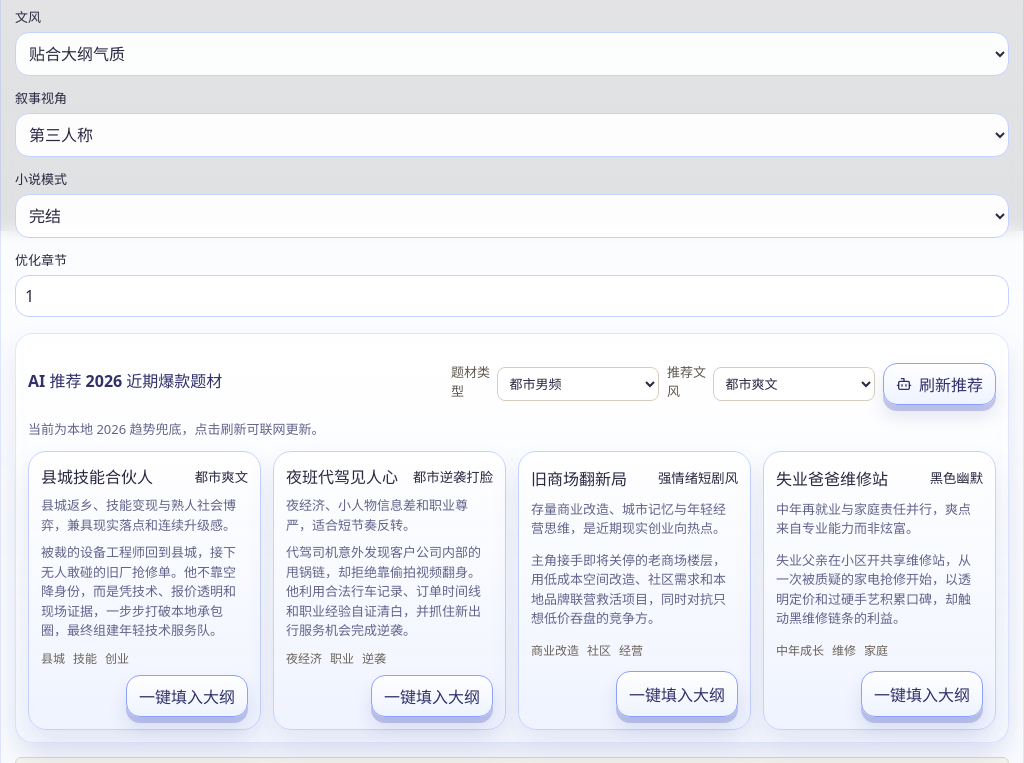
Test: Workspace progress › shows online topic recommendations after refresh succeeds
(page scrolled)
Click the button "刷新推荐" at (940, 384), box x1=883 y1=363 x2=996 y2=405
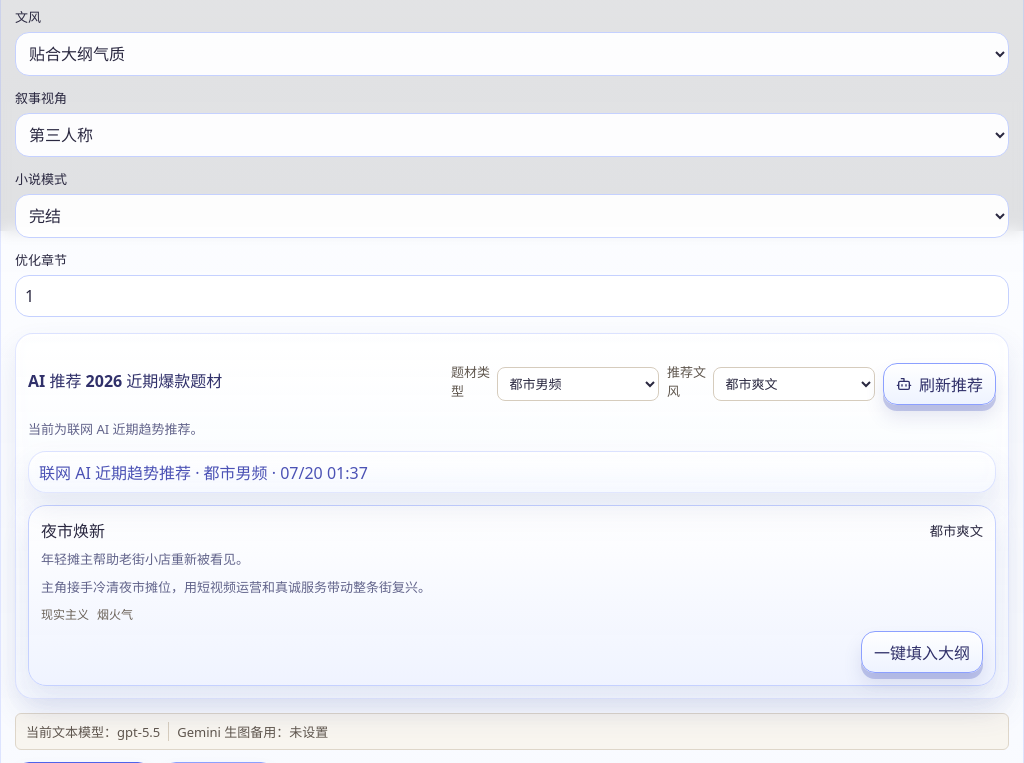
Expected: the text "当前为联网 AI 近期趋势推荐。" is shown, x1=28 y1=420 x2=204 y2=438
Expected: the text "夜市焕新" is shown, x1=41 y1=518 x2=105 y2=542
